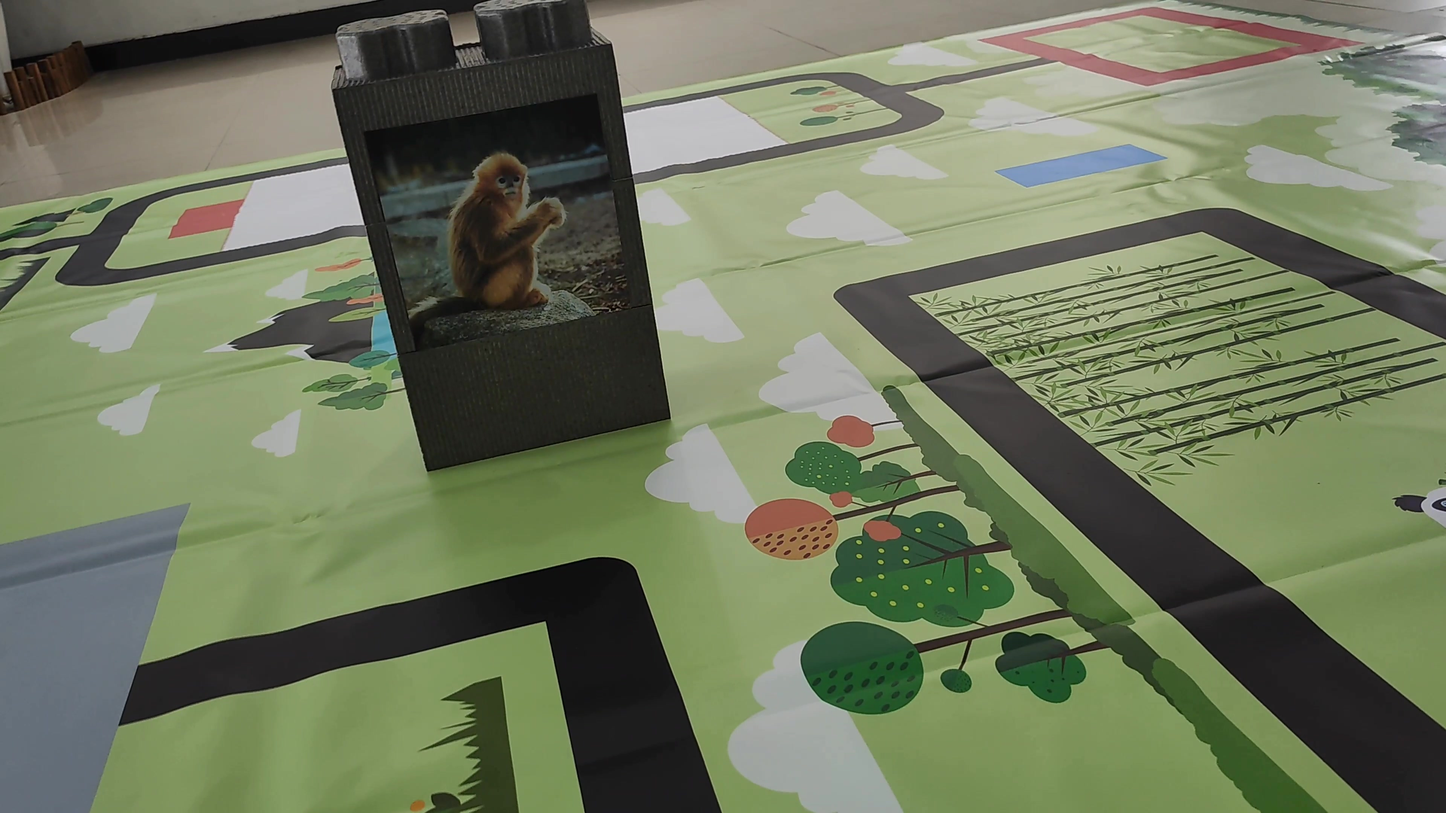monkey: (410, 140, 602, 362)
